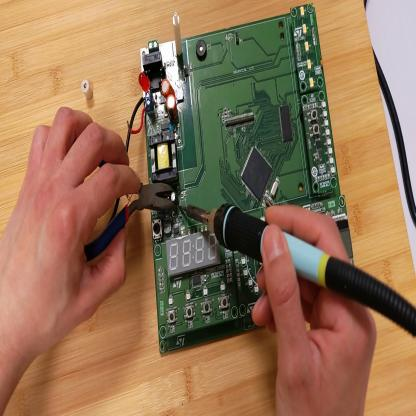hand: (2, 106, 139, 351), (254, 203, 377, 416)
low voltage board: (108, 3, 355, 354)
pliers: (85, 180, 176, 262)
welder probe tip: (180, 203, 416, 333)
working area: (2, 2, 416, 414)
